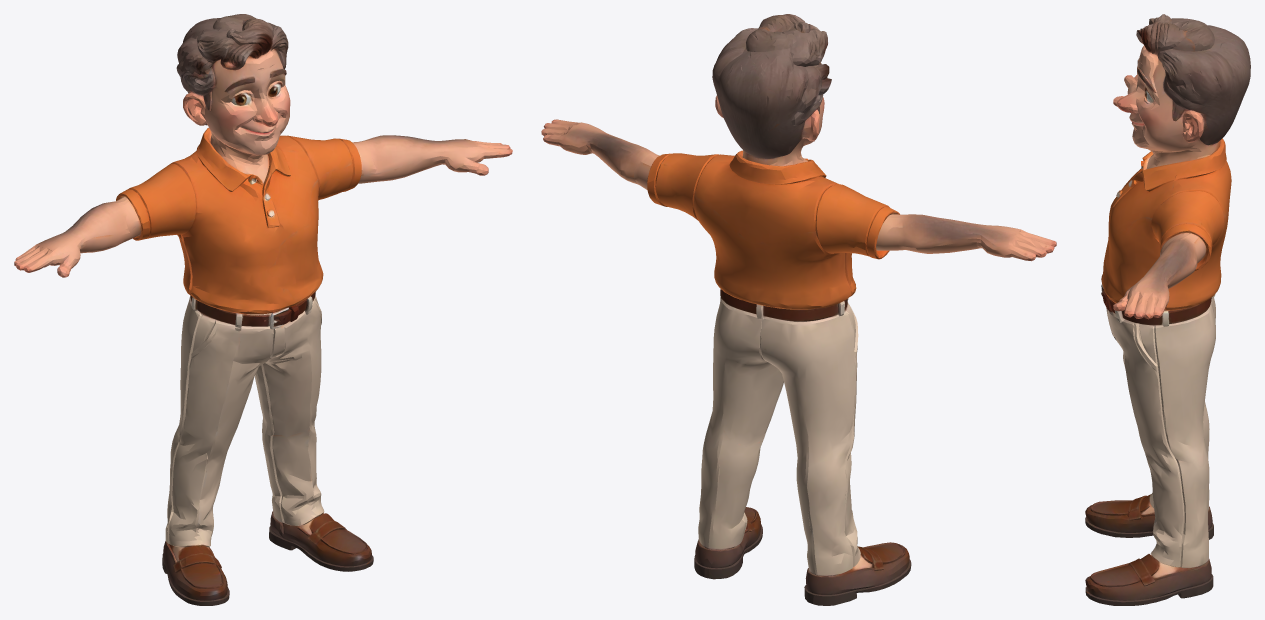
The model's file is shopperC.glb.
The picture shows the model from 3 angles, left to right: view 1: azimuth 30°, elevation 25°; view 2: azimuth 150°, elevation 25°; view 3: azimuth 270°, elevation 25°; orthographic projection. The views are drawn at different scales.
Visible parts, largest first — view 1: model; view 2: model; view 3: model.
Boxes of the visible parts, x1,y1,x2,y2 form: model: (14, 14, 512, 605); model: (541, 14, 1056, 605); model: (1085, 14, 1250, 605).
Bounding box in the file's own units: 1.81 × 1.9 × 0.5283.
Materials: 1 (1 with a texture image).
